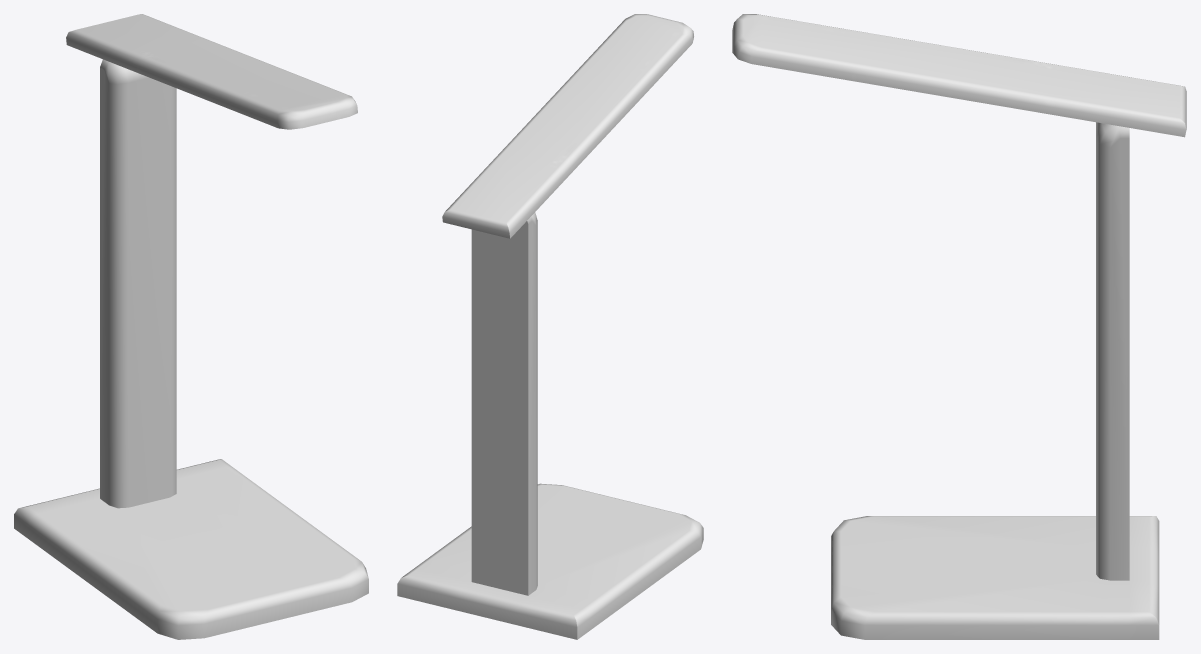
Rendered from lamp.glb.
The picture shows the model from 3 angles, left to right: view 1: azimuth 30°, elevation 25°; view 2: azimuth 150°, elevation 25°; view 3: azimuth 270°, elevation 25°; orthographic projection. The views are drawn at different scales.
Parts seen in each view (by area): view 1: base_low, light_low; view 2: base_low, light_low; view 3: base_low, light_low.
Boxes of the visible parts, left/top/right/bottom form: base_low: left=14, top=59, right=368, bottom=639; light_low: left=66, top=14, right=357, bottom=129; base_low: left=397, top=212, right=703, bottom=639; light_low: left=442, top=14, right=693, bottom=238; base_low: left=831, top=122, right=1159, bottom=639; light_low: left=732, top=14, right=1186, bottom=137.
Size of the model in its own units: 0.2177 by 0.5445 by 0.4004.
1 material, 1 textured.
